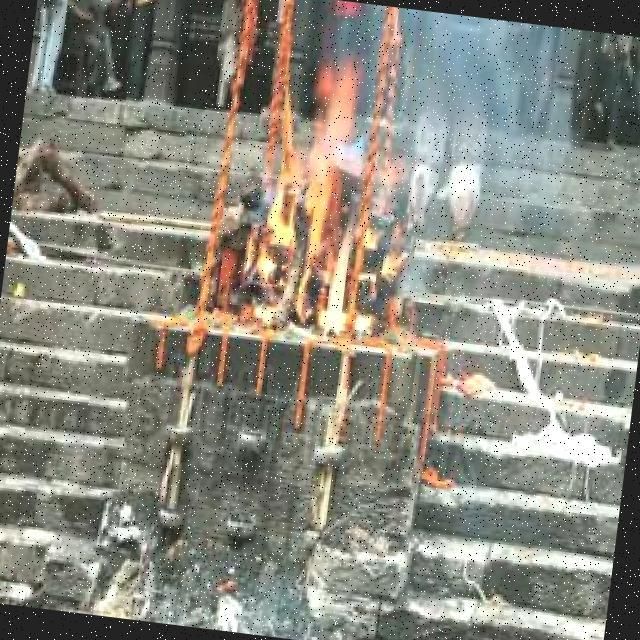Fire: (247, 49, 404, 340)
